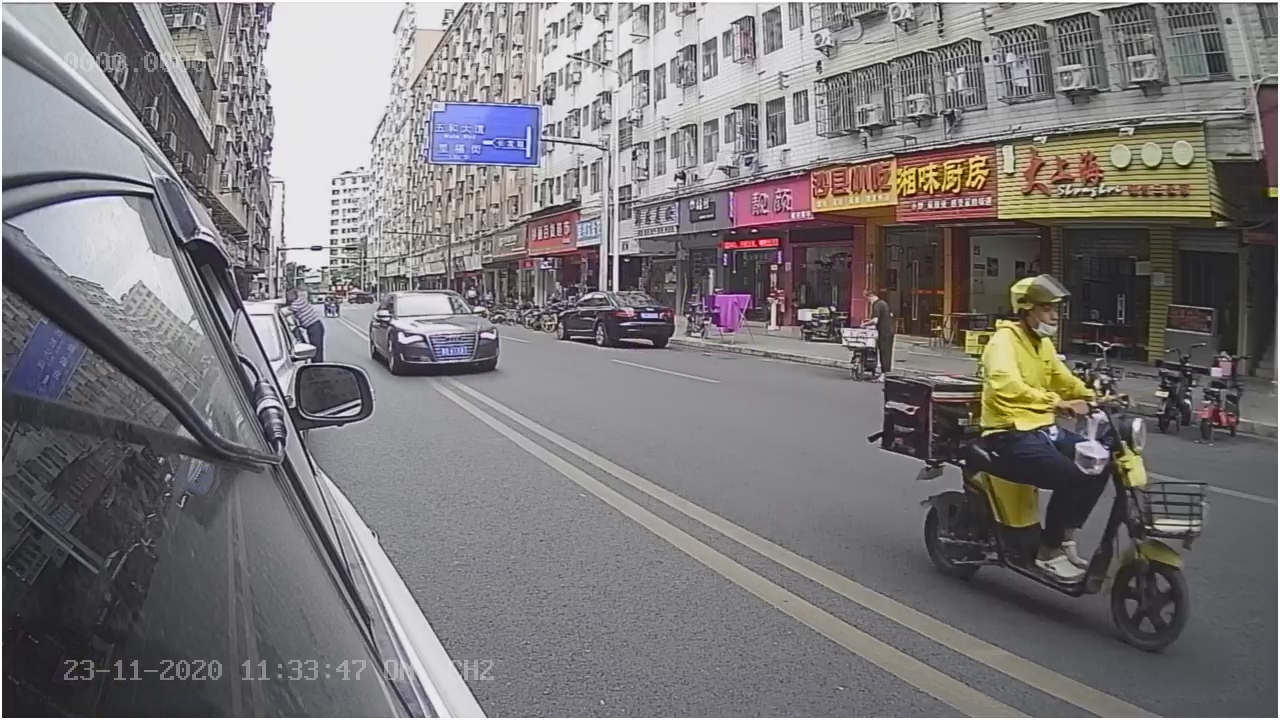person: (982, 271, 1100, 418)
